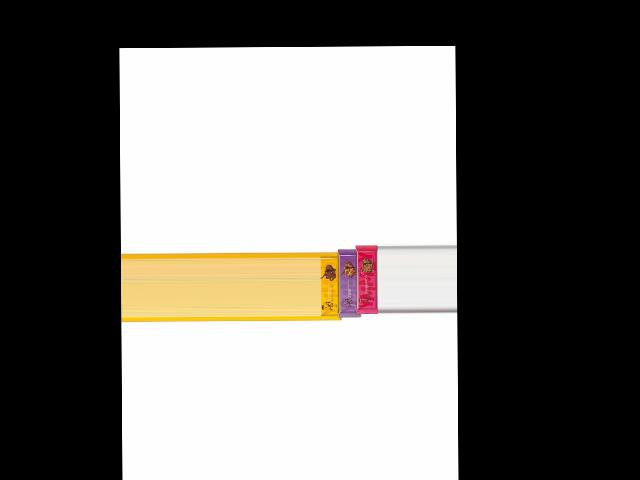chocolate: (356, 240, 379, 317)
